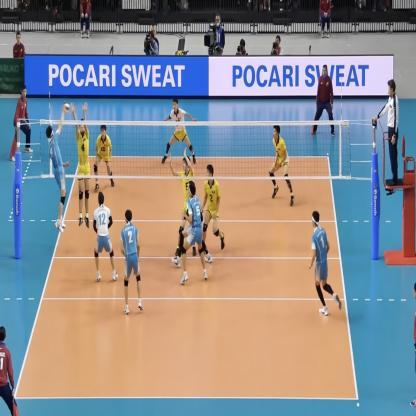spike: (43, 97, 70, 233)
